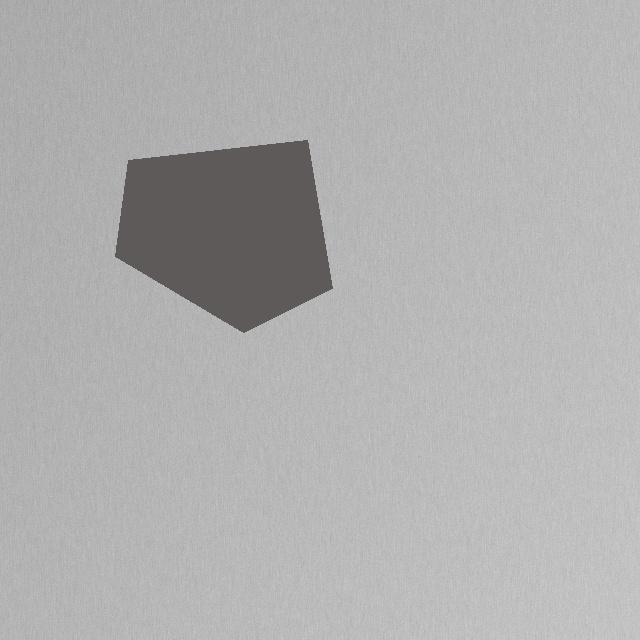patches: (90, 110, 540, 520)
